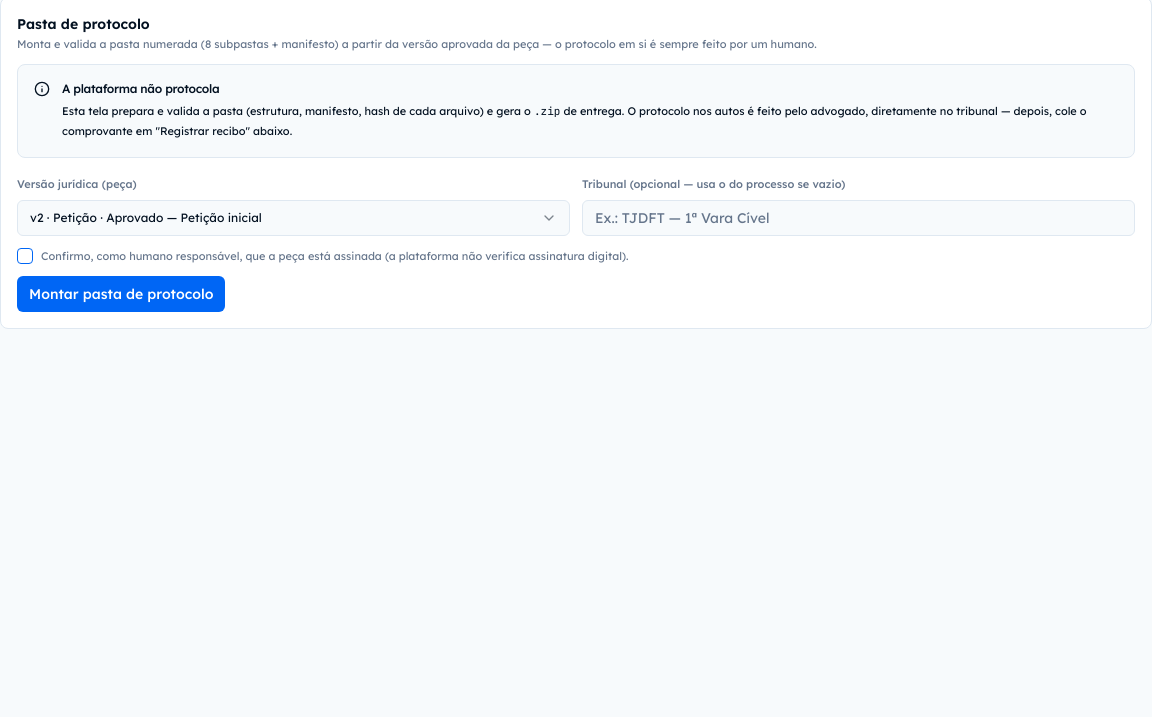
it: LegalProtocolTab › registers the receipt as a posterior, human record — never triggers a protocol action
Click the button "Montar pasta de protocolo": x=121, y=294 [17,276,225,312]
(page scrolled)
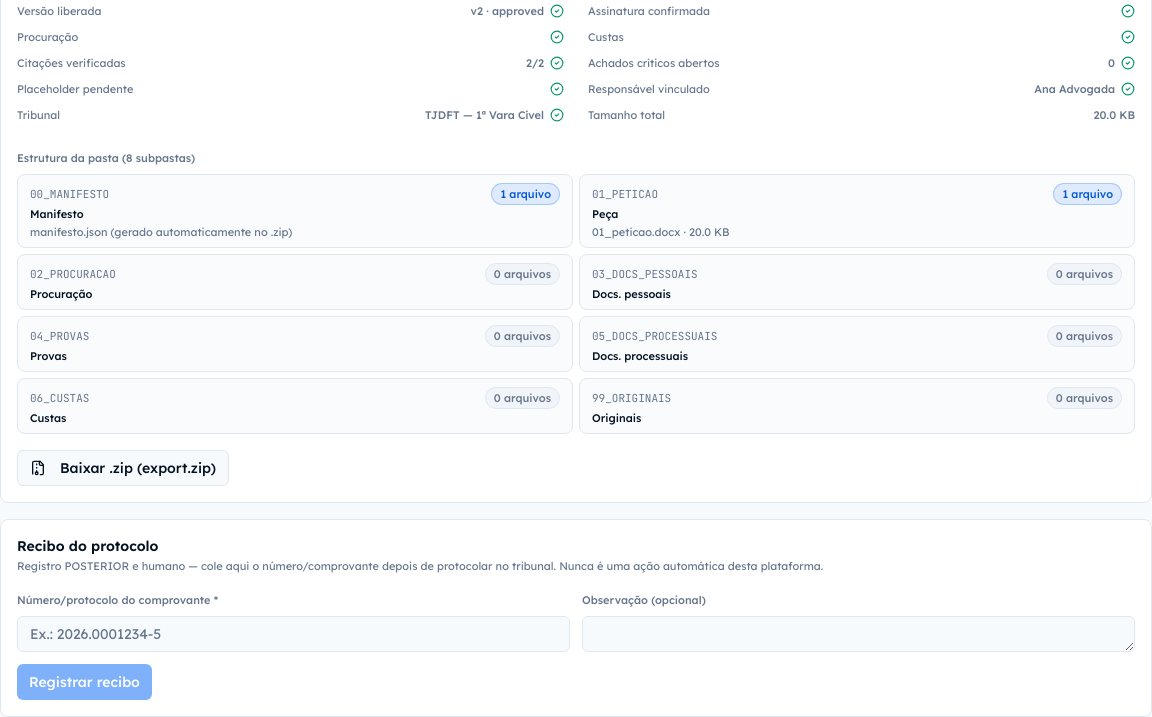
In the field with placeholder "Ex.: 2026.0001234-5": x=294, y=634 [17,616,570,652], type "2026.0009876-1"
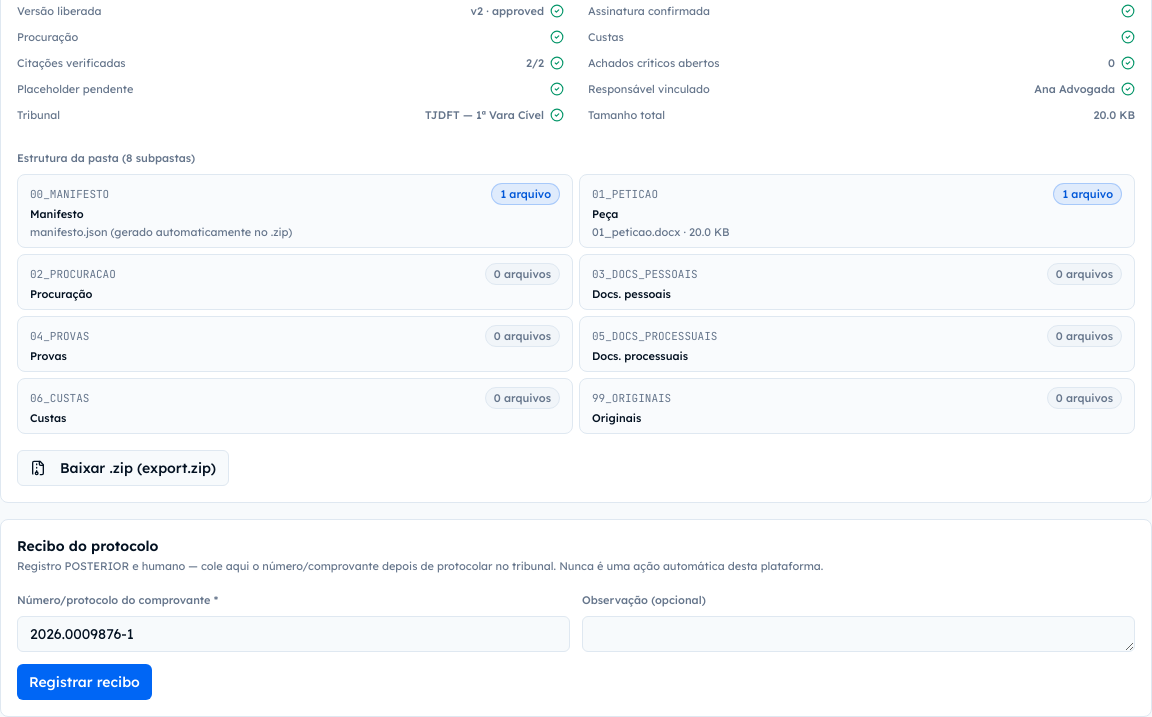
Click the button "Registrar recibo": x=84, y=682 [17,664,152,700]
(page scrolled)
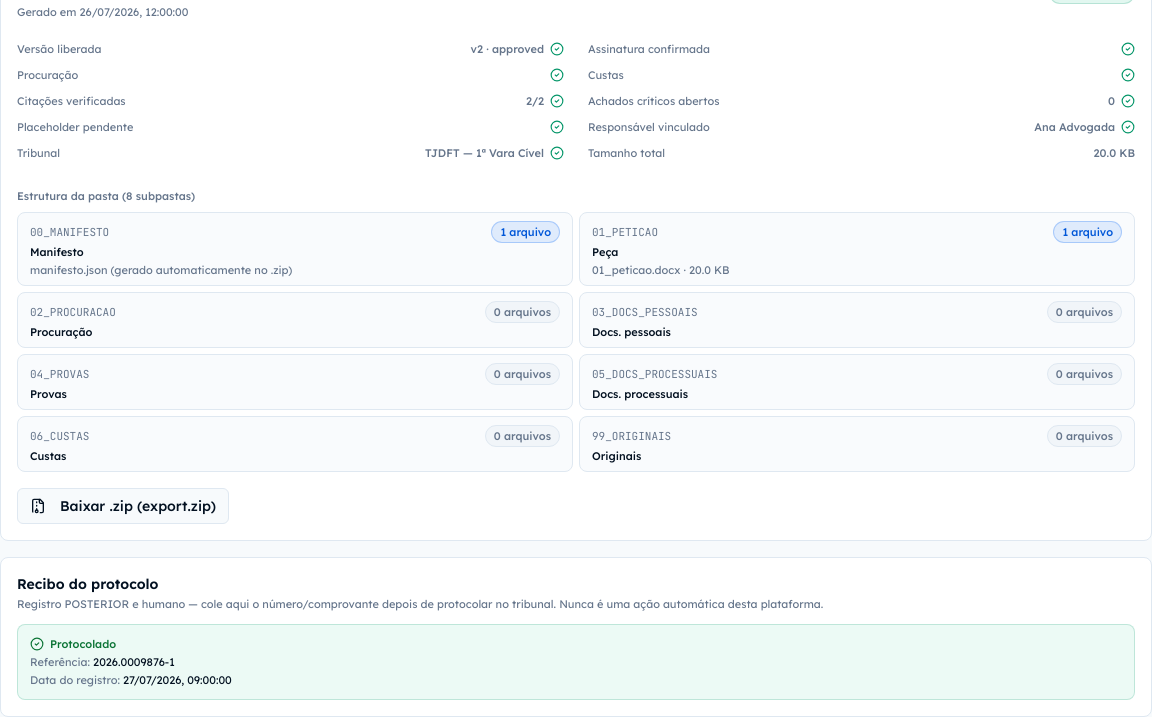
Check: the text "Protocolado" is shown, box [30,637,116,651]
Check: the text "2026.0009876-1" is shown, box [93,655,175,669]
